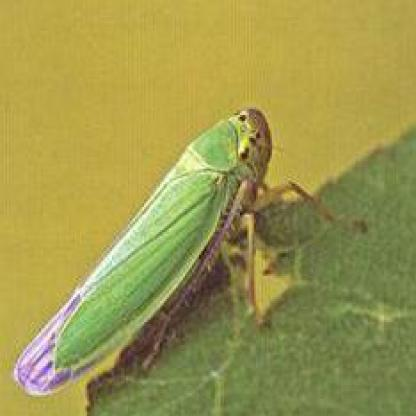Green-Leafhopper: (15, 108, 332, 405)
